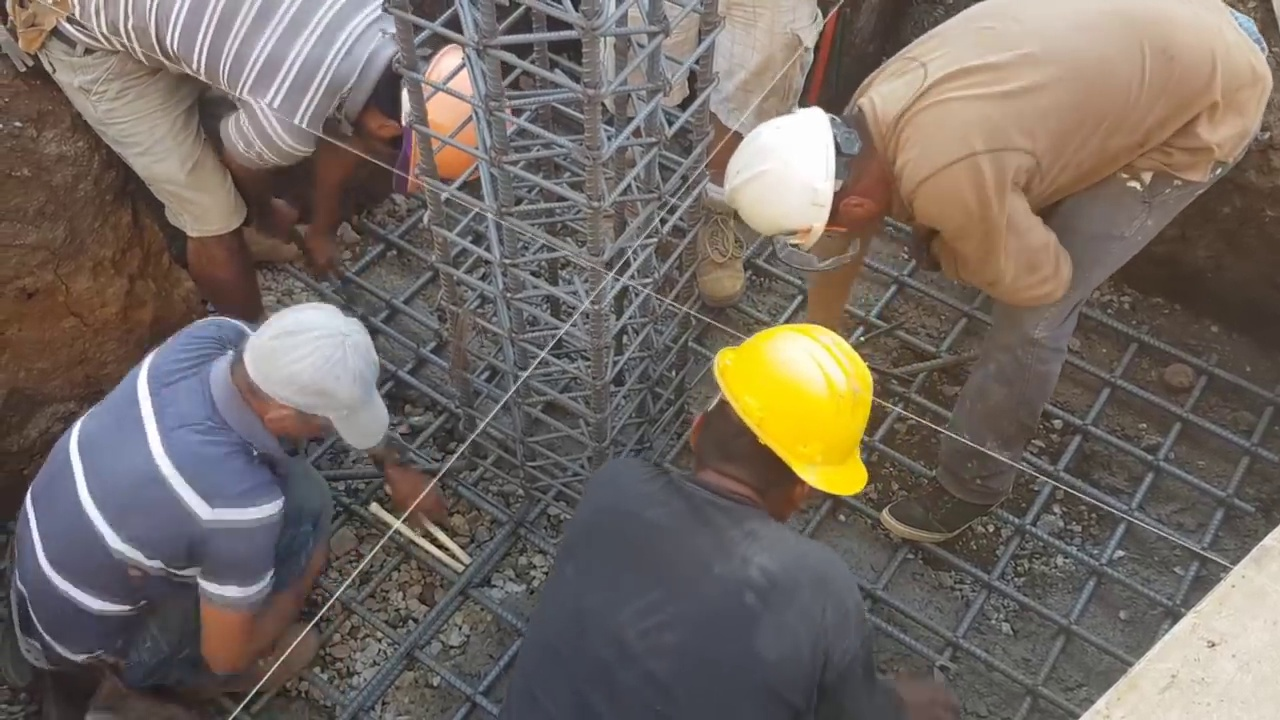helmet: (588, 5, 828, 304), (715, 330, 873, 501), (723, 103, 844, 242), (412, 39, 518, 178)
helmet-off: (234, 308, 379, 457)
helmet-on: (656, 326, 873, 525), (724, 90, 908, 249), (336, 27, 523, 182)
person: (724, 0, 1271, 542), (4, 303, 454, 720), (3, 0, 537, 309), (511, 323, 877, 706)
